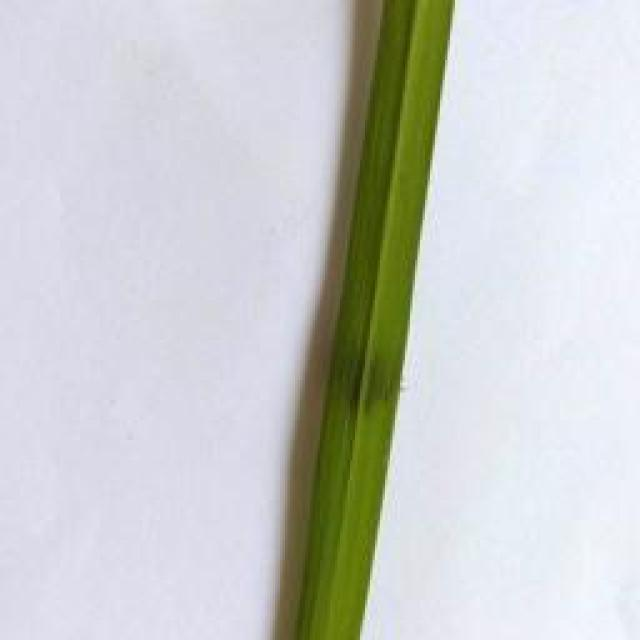Healthy-Plant: (348, 0, 469, 306), (295, 427, 402, 640)
